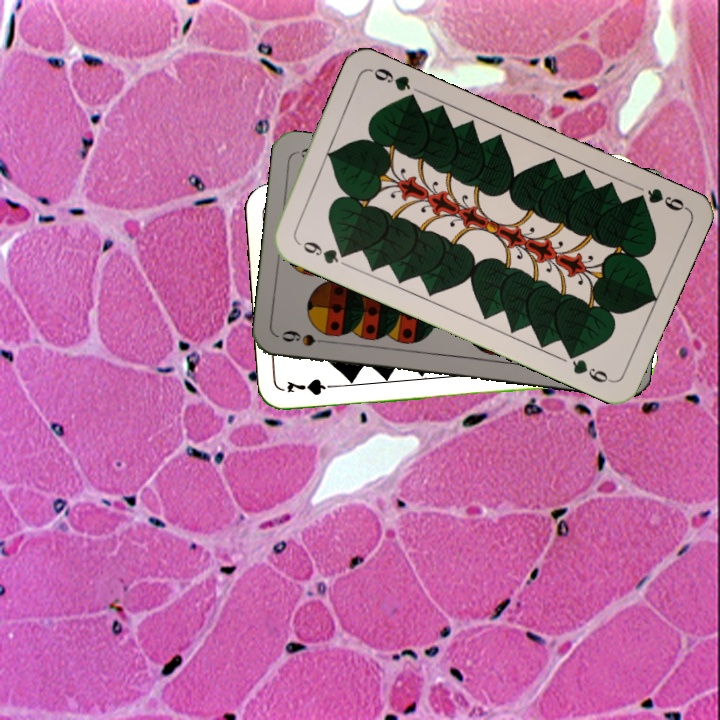G7: (283, 374, 342, 398)
G9: (292, 236, 351, 267), (629, 184, 689, 214)
S9: (278, 326, 336, 349)
